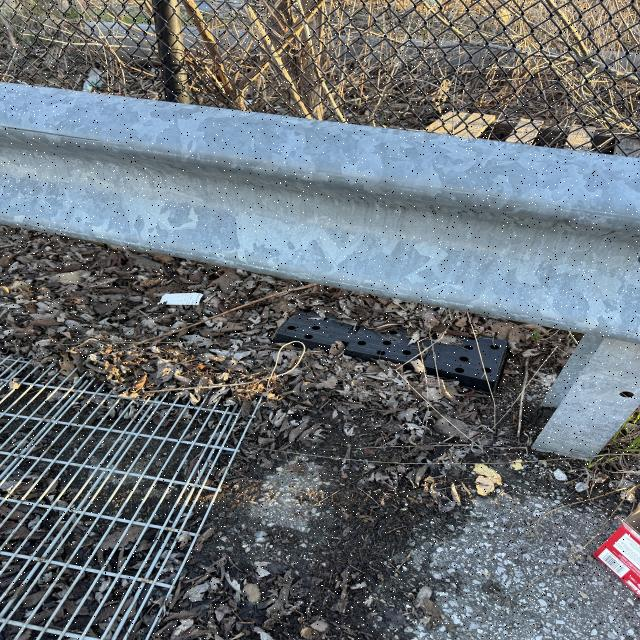Guard rail: (3, 100, 614, 318)
